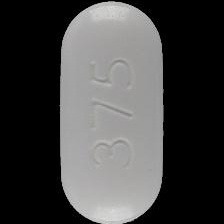43063-650: (0, 0, 224, 224)
